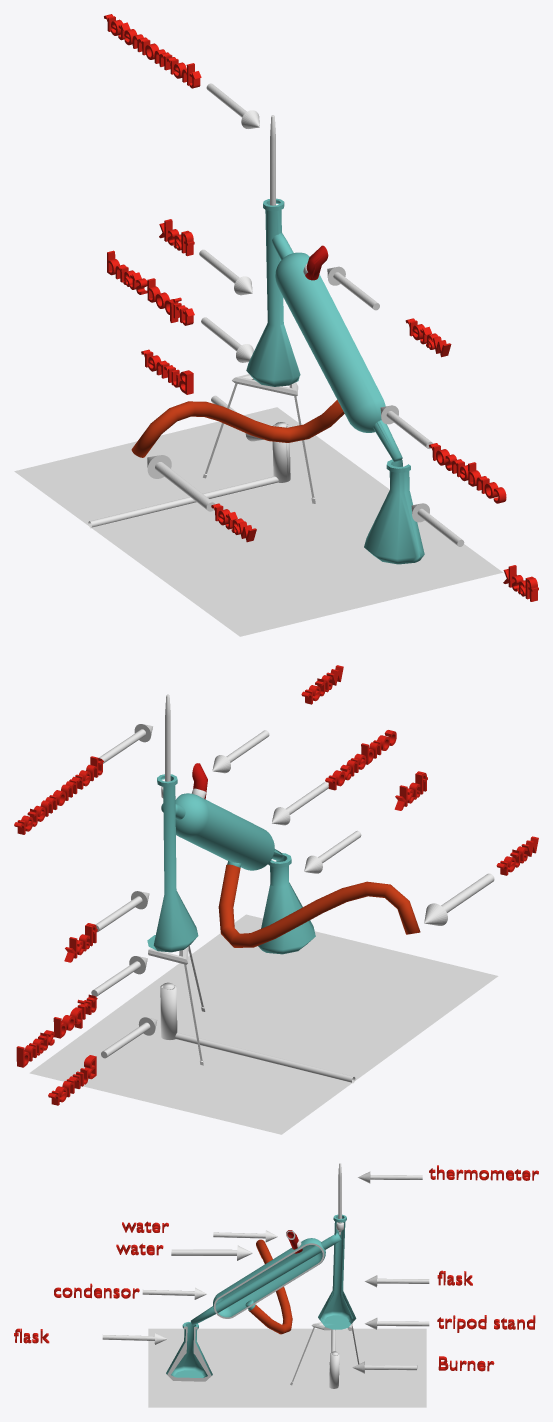
Rendered from Distrillation method_Raghav Naik Dessai.gltf.
The picture shows the model from 3 angles, top to bottom: view 1: azimuth 30°, elevation 25°; view 2: azimuth 150°, elevation 25°; view 3: azimuth 270°, elevation 25°; orthographic projection. The views are drawn at different scales.
Visible parts, largest first — view 1: Plane, MODEL.001_Cylinder.008_Cylinder.001, condensor.003, condensor.004, condensor, Cone.006, condensor.007, condensor.002, condensor.006, condensor.005, condensor.001; view 2: Plane, MODEL.001_Cylinder.008_Cylinder.001, condensor.003, condensor.004, condensor, Cone.006, condensor.007, condensor.006, condensor.002, condensor.001, Cone.008, condensor.005 (+6 smaller); view 3: Plane, MODEL.001_Cylinder.008_Cylinder.001, condensor.003, condensor.004, condensor, Cone.006, condensor.007, Cone.003, Cone.005, Cone.002, Cone.008, Cone.004 (+6 smaller).
Boxes of the visible parts, x1,y1,x2,y2 form: Plane: [14, 407, 502, 636]; MODEL.001_Cylinder.008_Cylinder.001: [88, 198, 424, 564]; condensor.003: [104, 14, 201, 88]; condensor.004: [107, 250, 194, 325]; condensor: [429, 443, 506, 503]; Cone.006: [147, 455, 214, 511]; condensor.007: [141, 349, 193, 394]; condensor.002: [405, 318, 451, 357]; condensor.006: [211, 503, 256, 542]; condensor.005: [159, 219, 194, 256]; condensor.001: [503, 565, 538, 601]; Plane: [29, 914, 498, 1134]; MODEL.001_Cylinder.008_Cylinder.001: [147, 763, 420, 1083]; condensor.003: [14, 756, 103, 834]; condensor.004: [16, 994, 97, 1067]; condensor: [325, 730, 396, 790]; Cone.006: [424, 873, 494, 925]; condensor.007: [48, 1055, 96, 1105]; condensor.006: [496, 836, 538, 875]; condensor.002: [301, 665, 343, 704]; condensor.001: [394, 771, 427, 810]; Cone.008: [272, 782, 328, 825]; condensor.005: [64, 923, 97, 962]; Plane: [148, 1328, 426, 1407]; MODEL.001_Cylinder.008_Cylinder.001: [166, 1214, 359, 1388]; condensor.003: [429, 1165, 538, 1180]; condensor.004: [437, 1315, 535, 1332]; condensor: [54, 1283, 139, 1298]; Cone.006: [171, 1245, 252, 1260]; condensor.007: [438, 1356, 494, 1371]; Cone.003: [213, 1230, 277, 1242]; Cone.005: [365, 1318, 429, 1329]; Cone.002: [102, 1332, 167, 1344]; Cone.008: [142, 1287, 206, 1299]; Cone.004: [352, 1361, 417, 1373].
Size of the model in its own units: 0.6914 by 0.8447 by 1.8.
